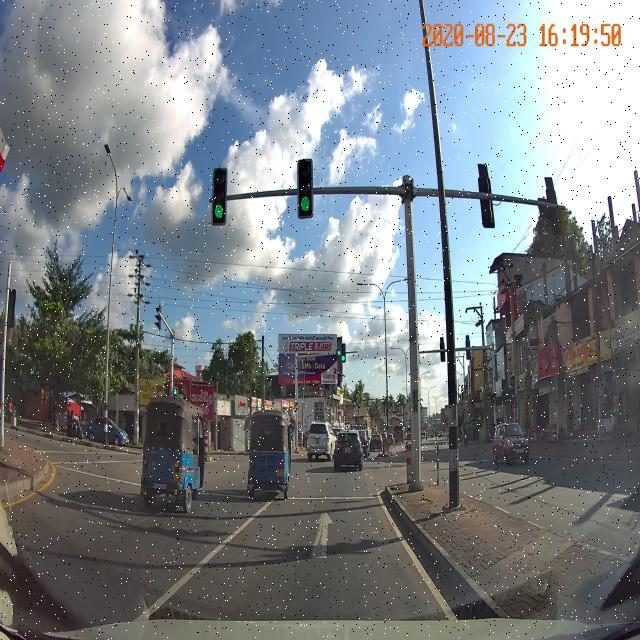forward: (203, 512, 417, 559)
